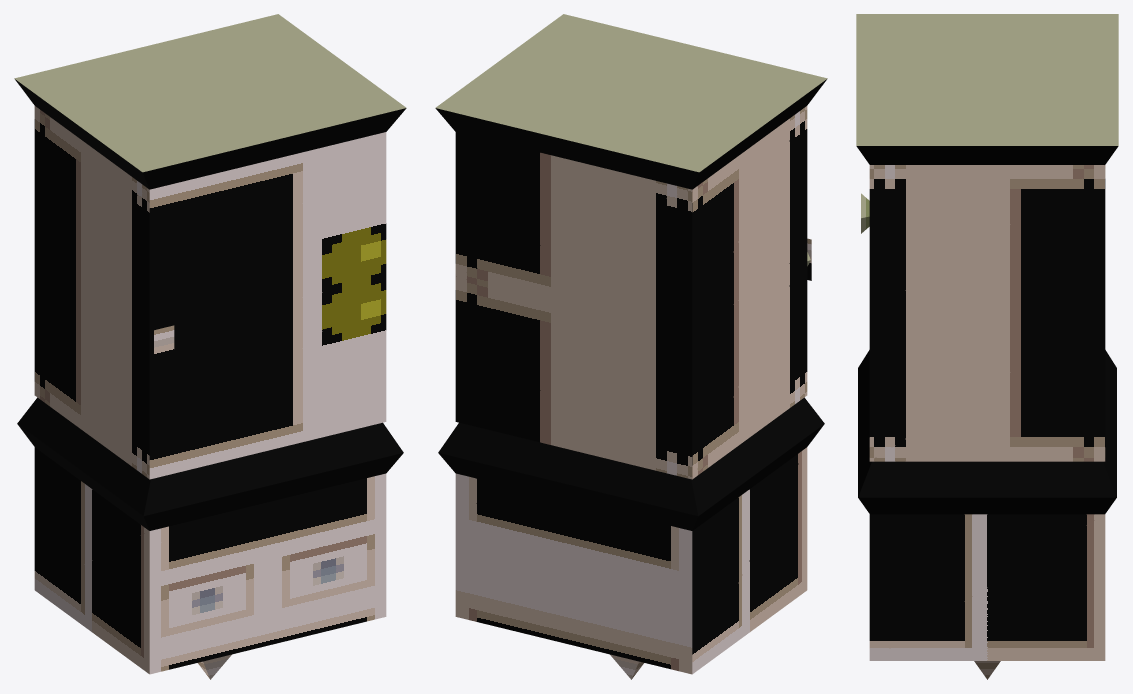
3 views of the same model, side by side, from view 1: azimuth 30°, elevation 25°; view 2: azimuth 150°, elevation 25°; view 3: azimuth 270°, elevation 25° (orthographic). The views are drawn at different scales.
Parts seen in each view (by area): view 1: 3817kg_sh1_40; view 2: 3817kg_sh1_40; view 3: 3817kg_sh1_40.
Boxes of the visible parts, <box> form: 3817kg_sh1_40: <box>14,14,406,679</box>; 3817kg_sh1_40: <box>435,14,827,679</box>; 3817kg_sh1_40: <box>856,14,1118,679</box>.
Size of the model in its own units: 0.9502 by 2.02 by 0.7998.
3 materials, 3 textured.
